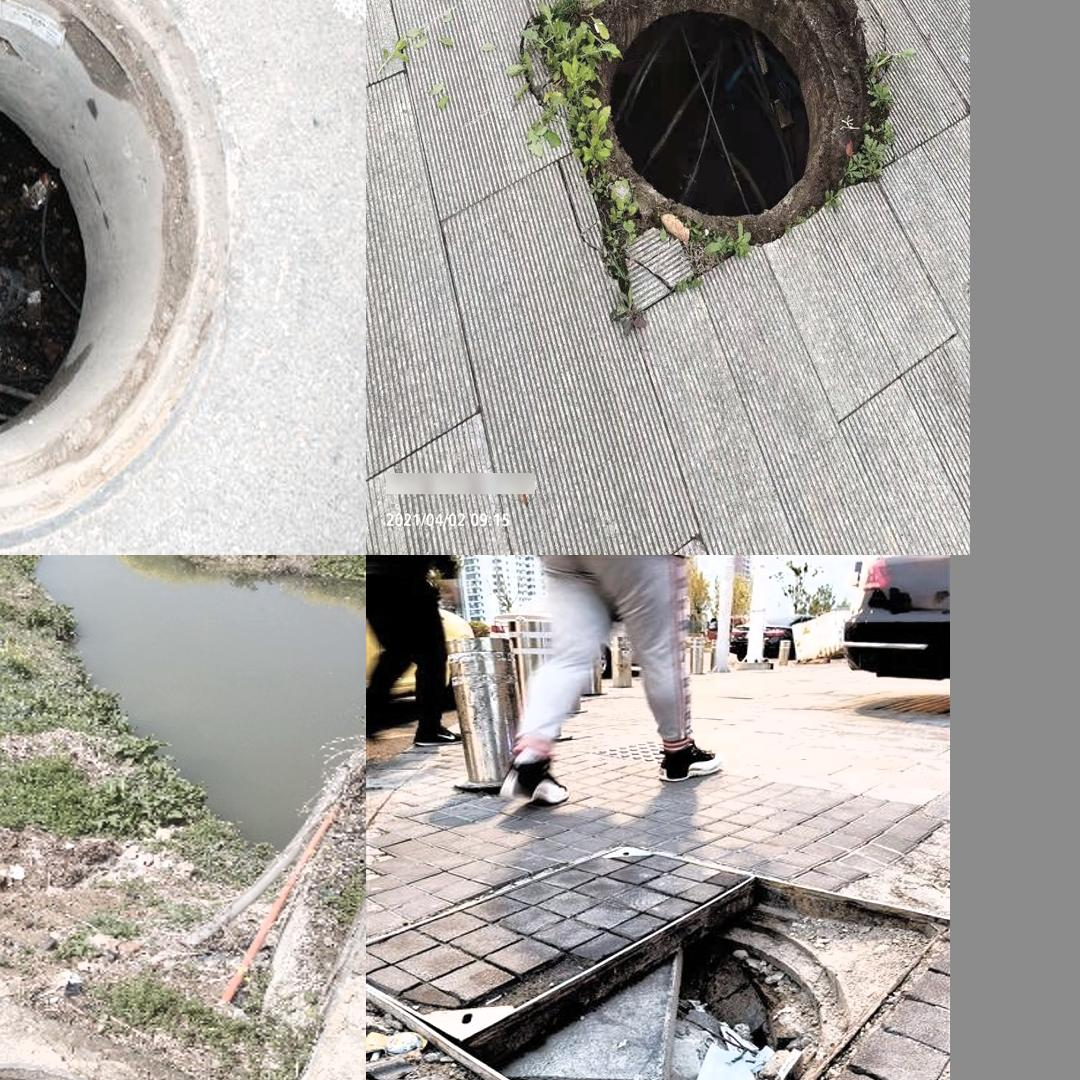lose: (379, 843, 938, 1080), (0, 0, 239, 541), (569, 0, 860, 249), (0, 1077, 204, 1080)
